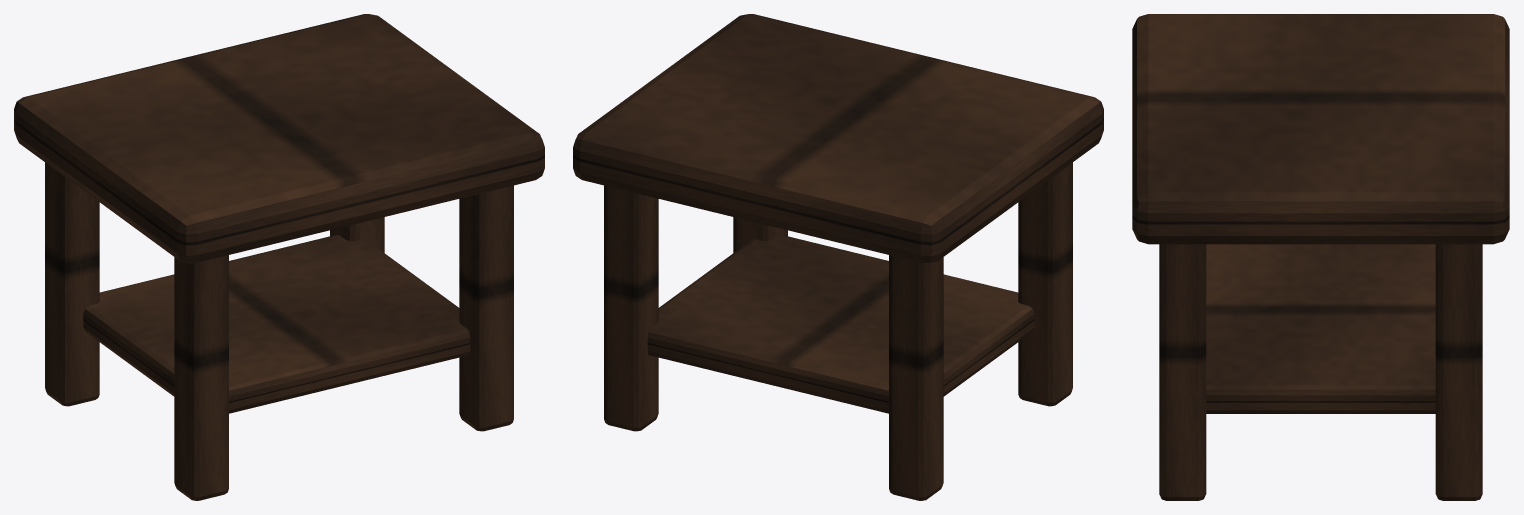
The model's file is side-table.glb.
3 views of the same model, side by side, from view 1: azimuth 30°, elevation 25°; view 2: azimuth 150°, elevation 25°; view 3: azimuth 270°, elevation 25° (orthographic). The views are drawn at different scales.
Parts seen in each view (by area): view 1: SM_lonely_house_side_table_DarkWood; view 2: SM_lonely_house_side_table_DarkWood; view 3: SM_lonely_house_side_table_DarkWood.
Part boxes in pixels (x1,y1,x2,y2): SM_lonely_house_side_table_DarkWood: (14, 14, 544, 500); SM_lonely_house_side_table_DarkWood: (573, 14, 1103, 500); SM_lonely_house_side_table_DarkWood: (1132, 14, 1509, 500).
Size of the model in its own units: 0.72 by 0.555 by 0.6.
1 material, 1 textured.
